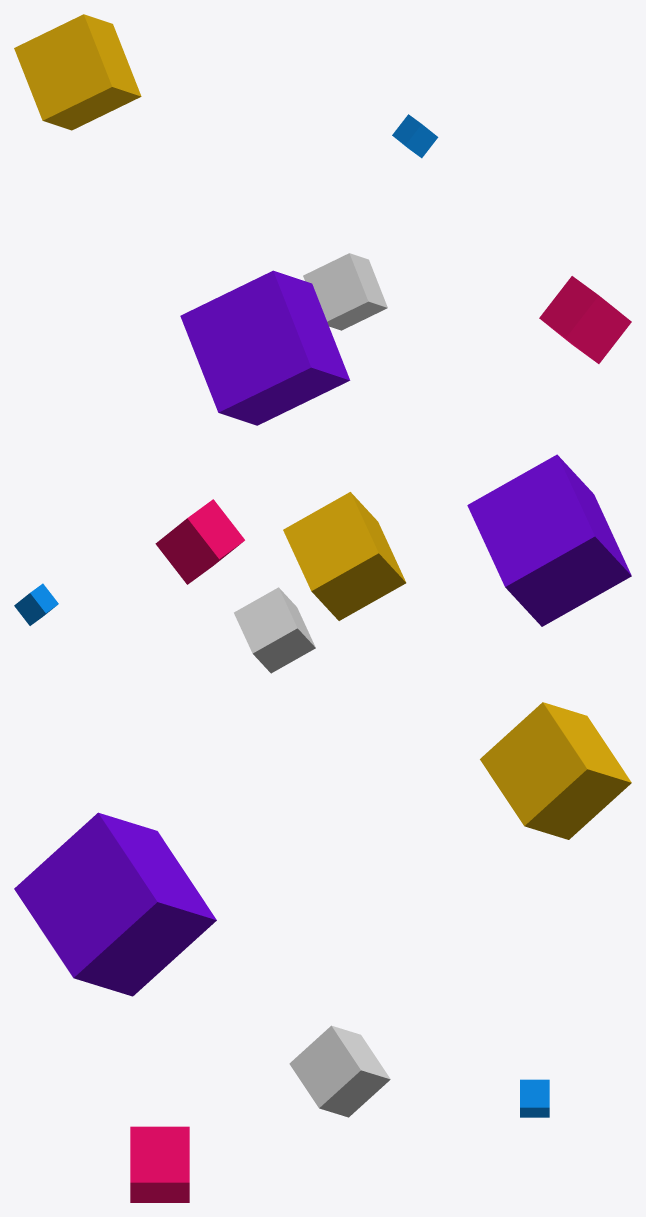
The model's file is locar_test_v01.glb.
3 renders of one model, top to bottom at view 1: azimuth 30°, elevation 25°; view 2: azimuth 150°, elevation 25°; view 3: azimuth 270°, elevation 25°, orthographic. The views are drawn at different scales.
Parts seen in each view (by area): view 1: Cube.004, Cube.001, Cube.003, Cube, Cube.002; view 2: Cube.004, Cube.001, Cube, Cube.003, Cube.002; view 3: Cube.004, Cube.001, Cube, Cube.003, Cube.002.
Boxes of the visible parts, x1,y1,x2,y2 form: Cube.004: (180,270,350,425); Cube.001: (14,14,141,130); Cube.003: (539,276,631,363); Cube: (303,253,387,330); Cube.002: (392,114,438,158); Cube.004: (467,454,631,626); Cube.001: (283,492,406,620); Cube: (234,587,315,673); Cube.003: (155,499,244,584); Cube.002: (14,583,58,625); Cube.004: (14,812,216,996); Cube.001: (480,702,631,839); Cube: (289,1025,390,1117); Cube.003: (130,1126,189,1202); Cube.002: (520,1079,549,1117).
Bounding box in the file's own units: 18.83 × 12.02 × 20.78.
